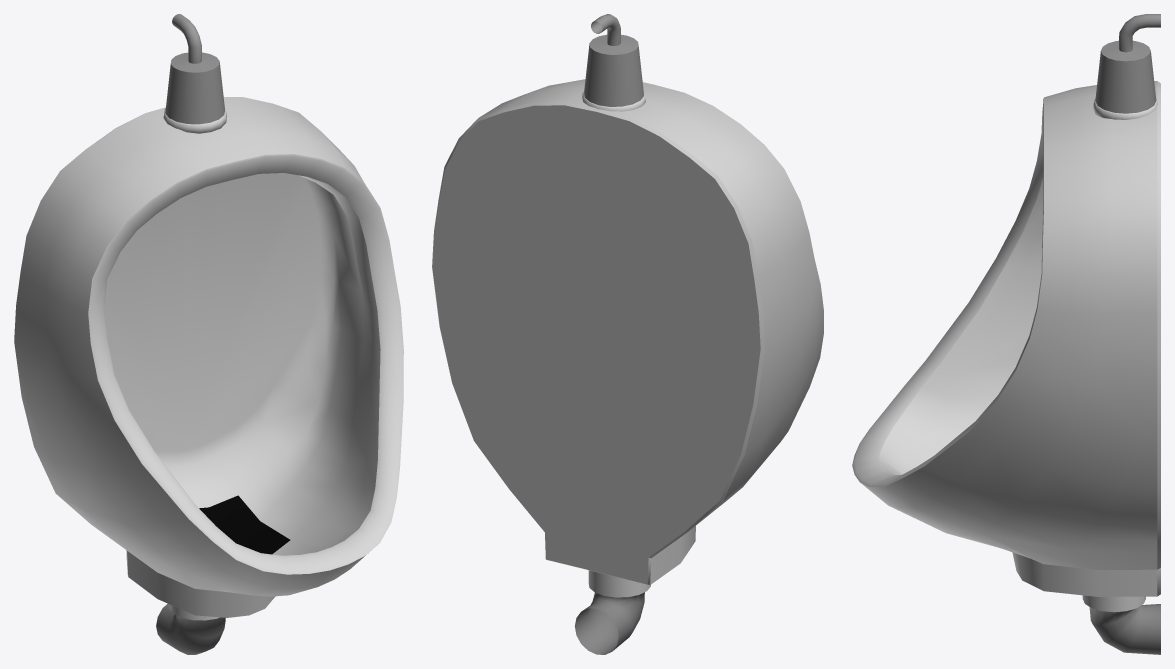
Rendered from sh_scopia_small_urinal.glb.
3 views of the same model, side by side, from view 1: azimuth 30°, elevation 25°; view 2: azimuth 150°, elevation 25°; view 3: azimuth 270°, elevation 25° (orthographic).
Size of the model in its own units: 0.34 by 0.618 by 0.271.
4 materials, 1 textured.
